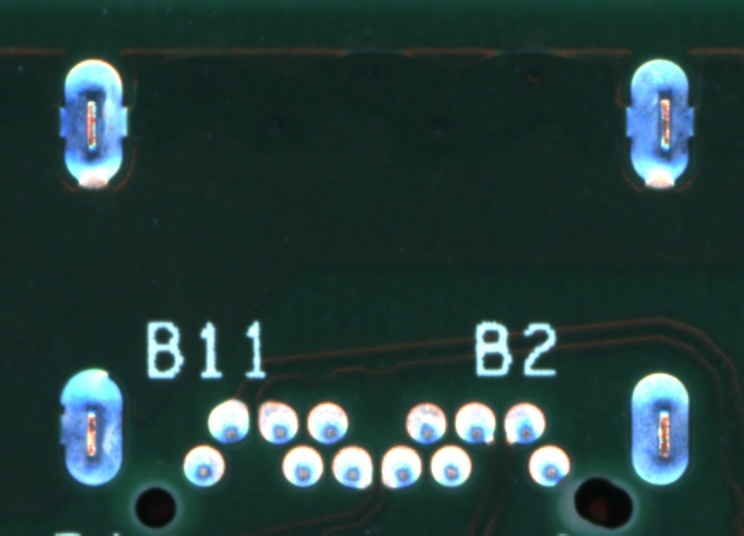SOLDER: (401, 399, 448, 446), (303, 400, 350, 447), (253, 398, 300, 445), (206, 397, 252, 444), (180, 443, 226, 490), (278, 443, 324, 490), (329, 444, 375, 491), (377, 443, 423, 490), (427, 443, 473, 490), (526, 443, 572, 490), (501, 400, 547, 447), (452, 399, 498, 446)
SOLDER2: (51, 52, 138, 197), (45, 356, 132, 500), (615, 353, 701, 498), (615, 52, 701, 197)
